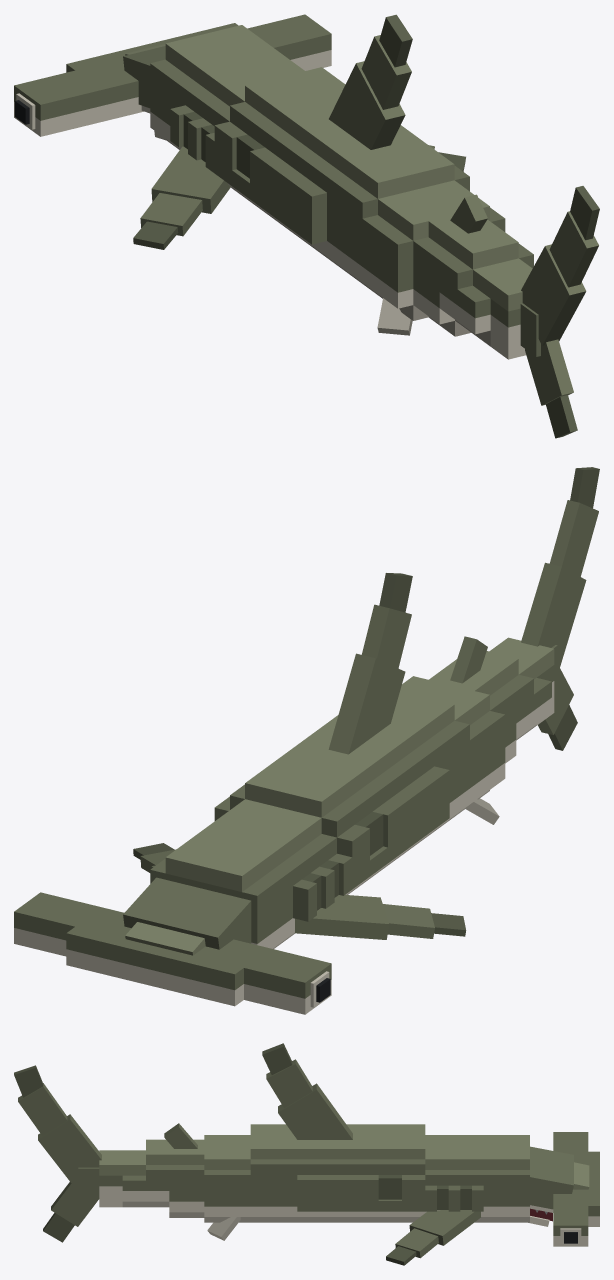
File: HammerheadShark.glb
The picture shows the model from 3 angles, top to bottom: view 1: azimuth 30°, elevation 25°; view 2: azimuth 150°, elevation 25°; view 3: azimuth 270°, elevation 25°; orthographic projection. The views are drawn at different scales.
Parts seen in each view (by area): view 1: Head, S3, S1, Tail, S2, S5, S4, S6, S7; view 2: Head, S3, S1, S2, Tail, S5, S6, S4, S7; view 3: Head, S3, S1, S2, Tail, S6, S4, S5, S7.
Part boxes in pixels (<box>): Head: <box>14,14,331,149</box>; S3: <box>267,14,418,268</box>; S1: <box>133,51,465,249</box>; Tail: <box>520,186,599,438</box>; S2: <box>214,67,345,236</box>; S5: <box>362,180,505,335</box>; S4: <box>327,138,469,294</box>; S6: <box>413,194,533,336</box>; S7: <box>457,258,532,359</box>; Head: <box>14,831,331,1014</box>; S3: <box>298,573,449,874</box>; S1: <box>133,799,466,945</box>; S2: <box>214,744,405,894</box>; Tail: <box>521,467,599,750</box>; S5: <box>400,676,505,824</box>; S6: <box>429,636,533,763</box>; S4: <box>391,691,469,842</box>; S7: <box>489,637,554,738</box>; Head: <box>483,1132,599,1246</box>; S3: <box>262,1043,355,1222</box>; S1: <box>386,1135,483,1265</box>; S2: <box>355,1124,425,1222</box>; Tail: <box>14,1065,101,1242</box>; S6: <box>146,1123,204,1217</box>; S4: <box>250,1124,297,1222</box>; S5: <box>204,1135,250,1240</box>; S7: <box>99,1150,145,1207</box>.
Bounding box in the file's own units: 8.69 × 7.45 × 20.14.
